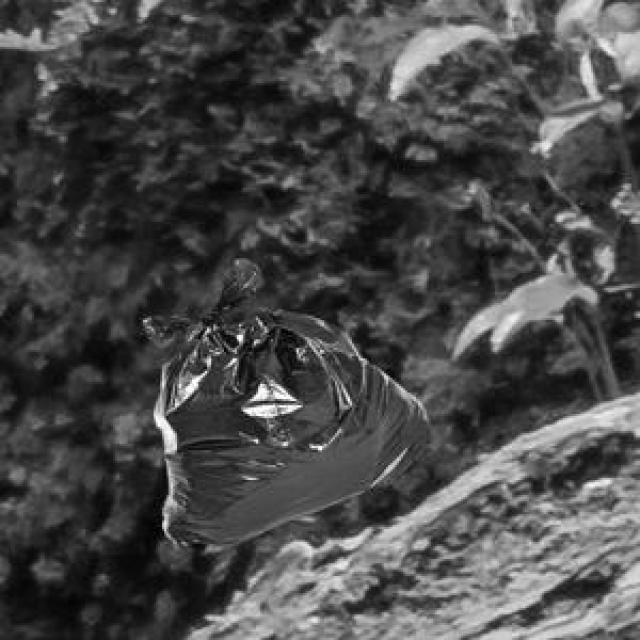miscellaneous trash: (139, 254, 427, 550)
